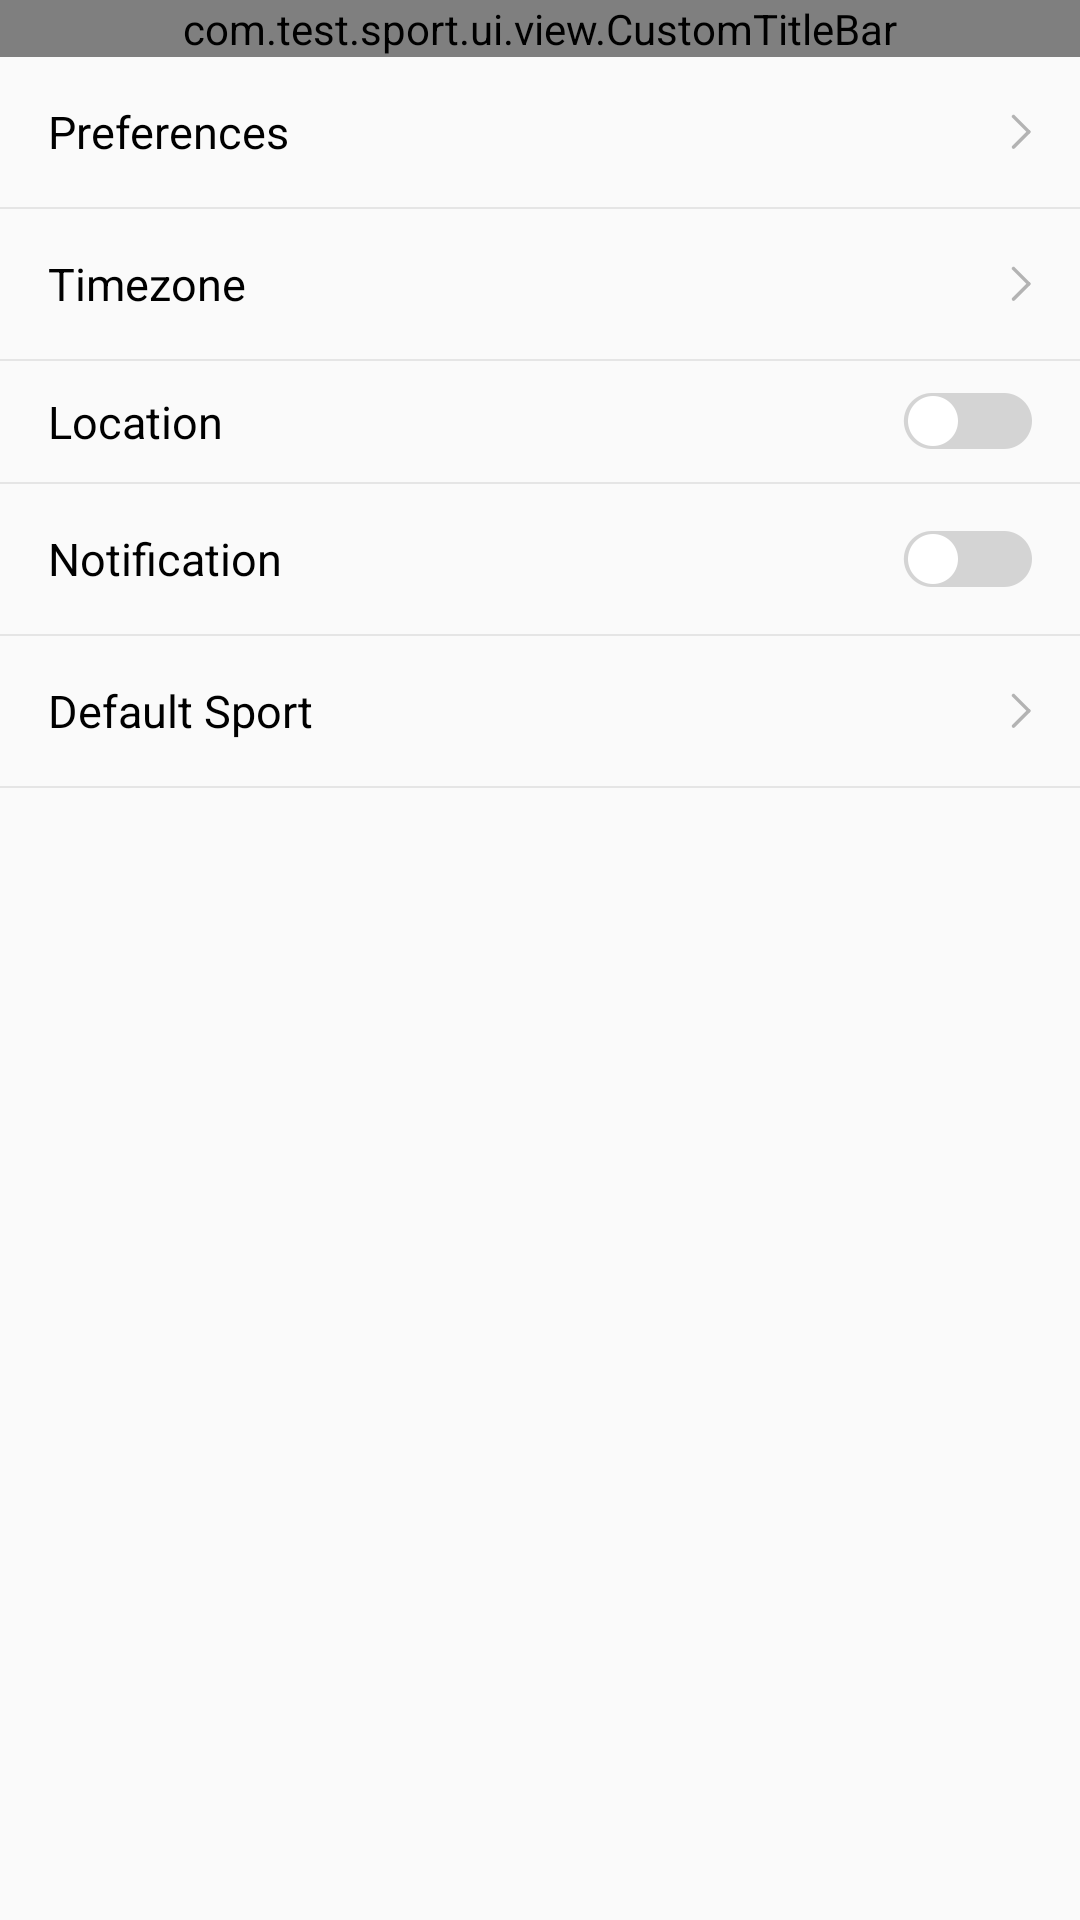

Point at icon controls on the screen. Image size 1080w x 1920h, points as [x,y].
switch: [968,421], [968,559]
